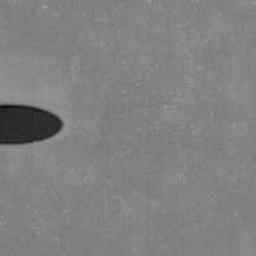Punching: (0, 104, 63, 146)
